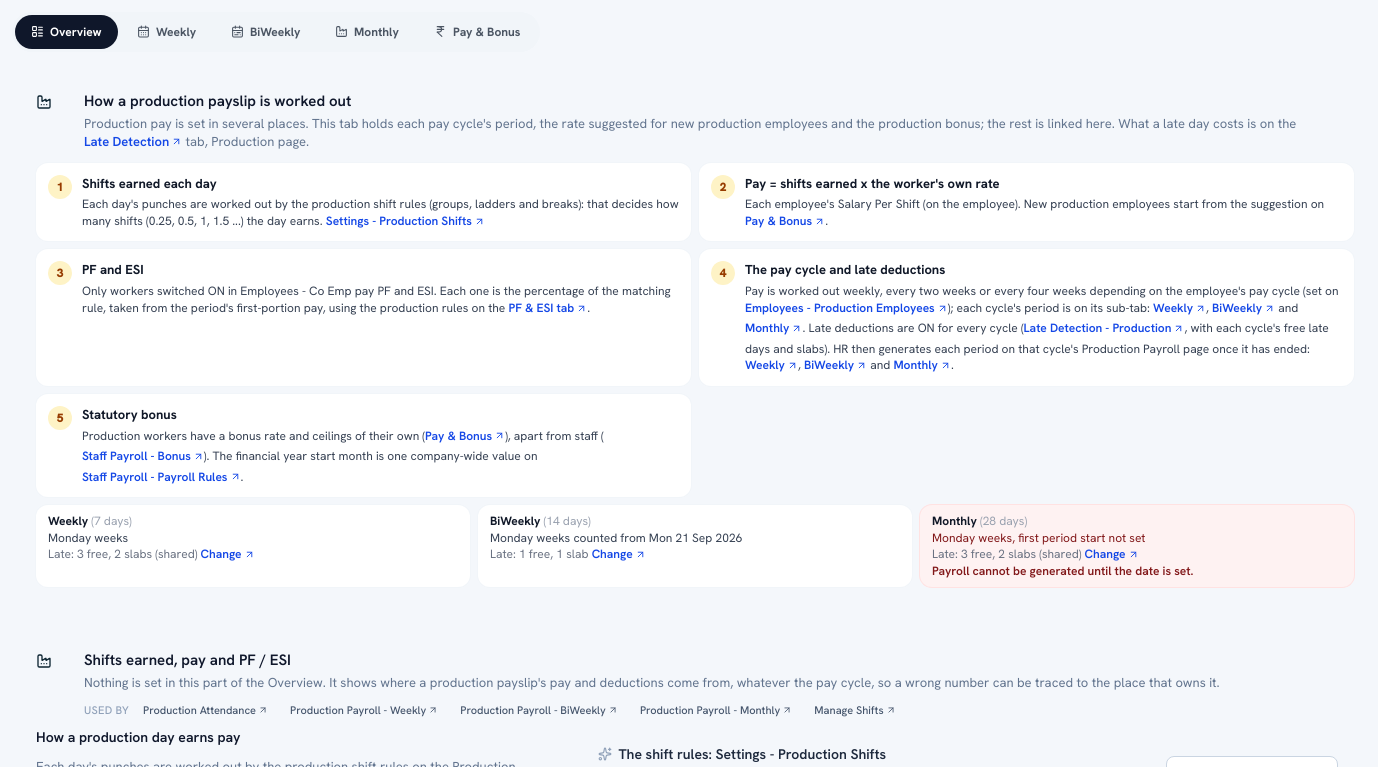
Test: Settings -> Production Payroll › view only: every field and every Save button is disabled
Click the tab "Weekly" at coordinates (166, 32), box [121,15,212,49]
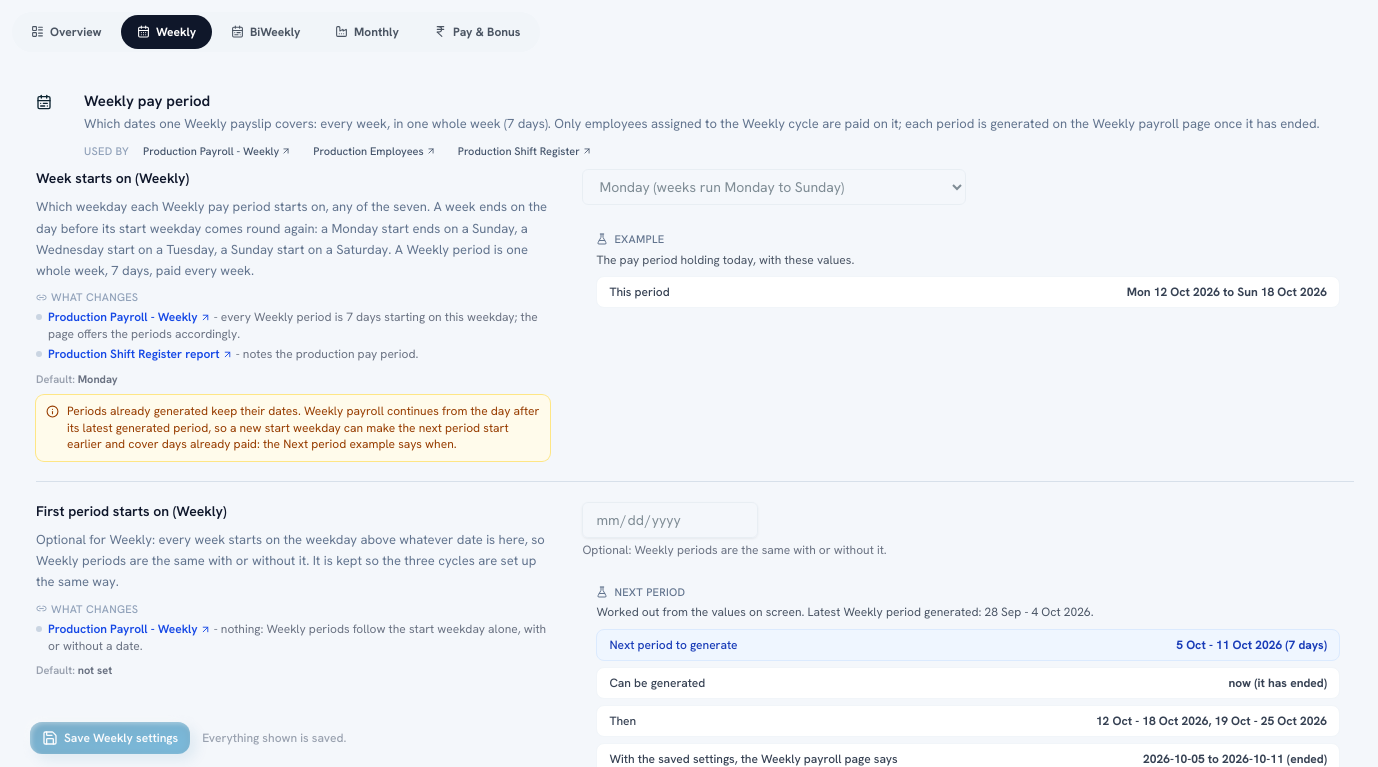
Now the dropdown with id "weekly-week-start-input" is disabled, box [582,169,966,205]
Now the date field with id "weekly-first-period-input" is disabled, box [582,502,758,538]
Now the button "Save Weekly settings" is disabled, box [30,722,190,754]
Click the tab "Pay & Bonus" at coordinates (477, 32), box [418,15,537,49]
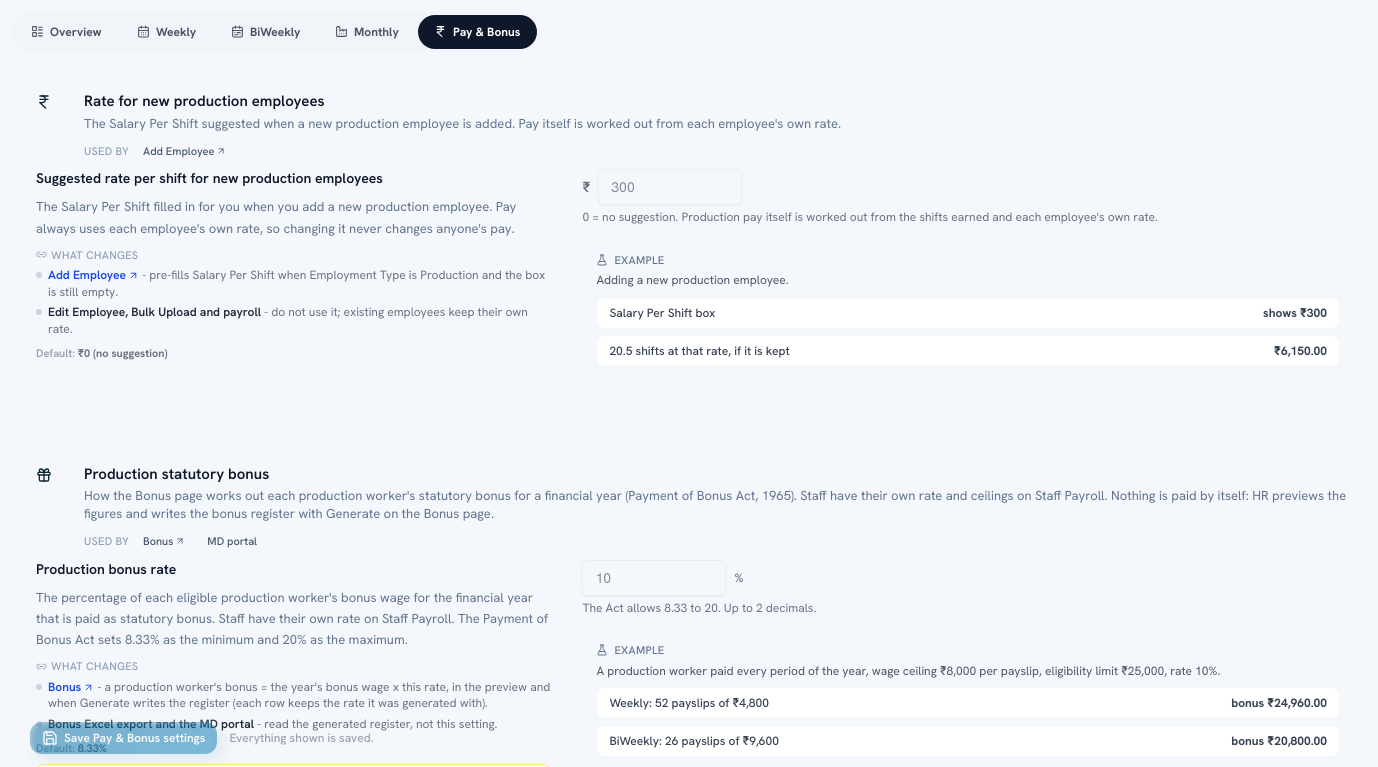
Now the button "Save Pay & Bonus settings" is disabled, box [30,722,217,754]
Now the field with id "default-salary-per-shift-input" is disabled, box [598,169,742,205]
Now the field labelled "Production bonus rate" is disabled, box [582,560,726,596]
